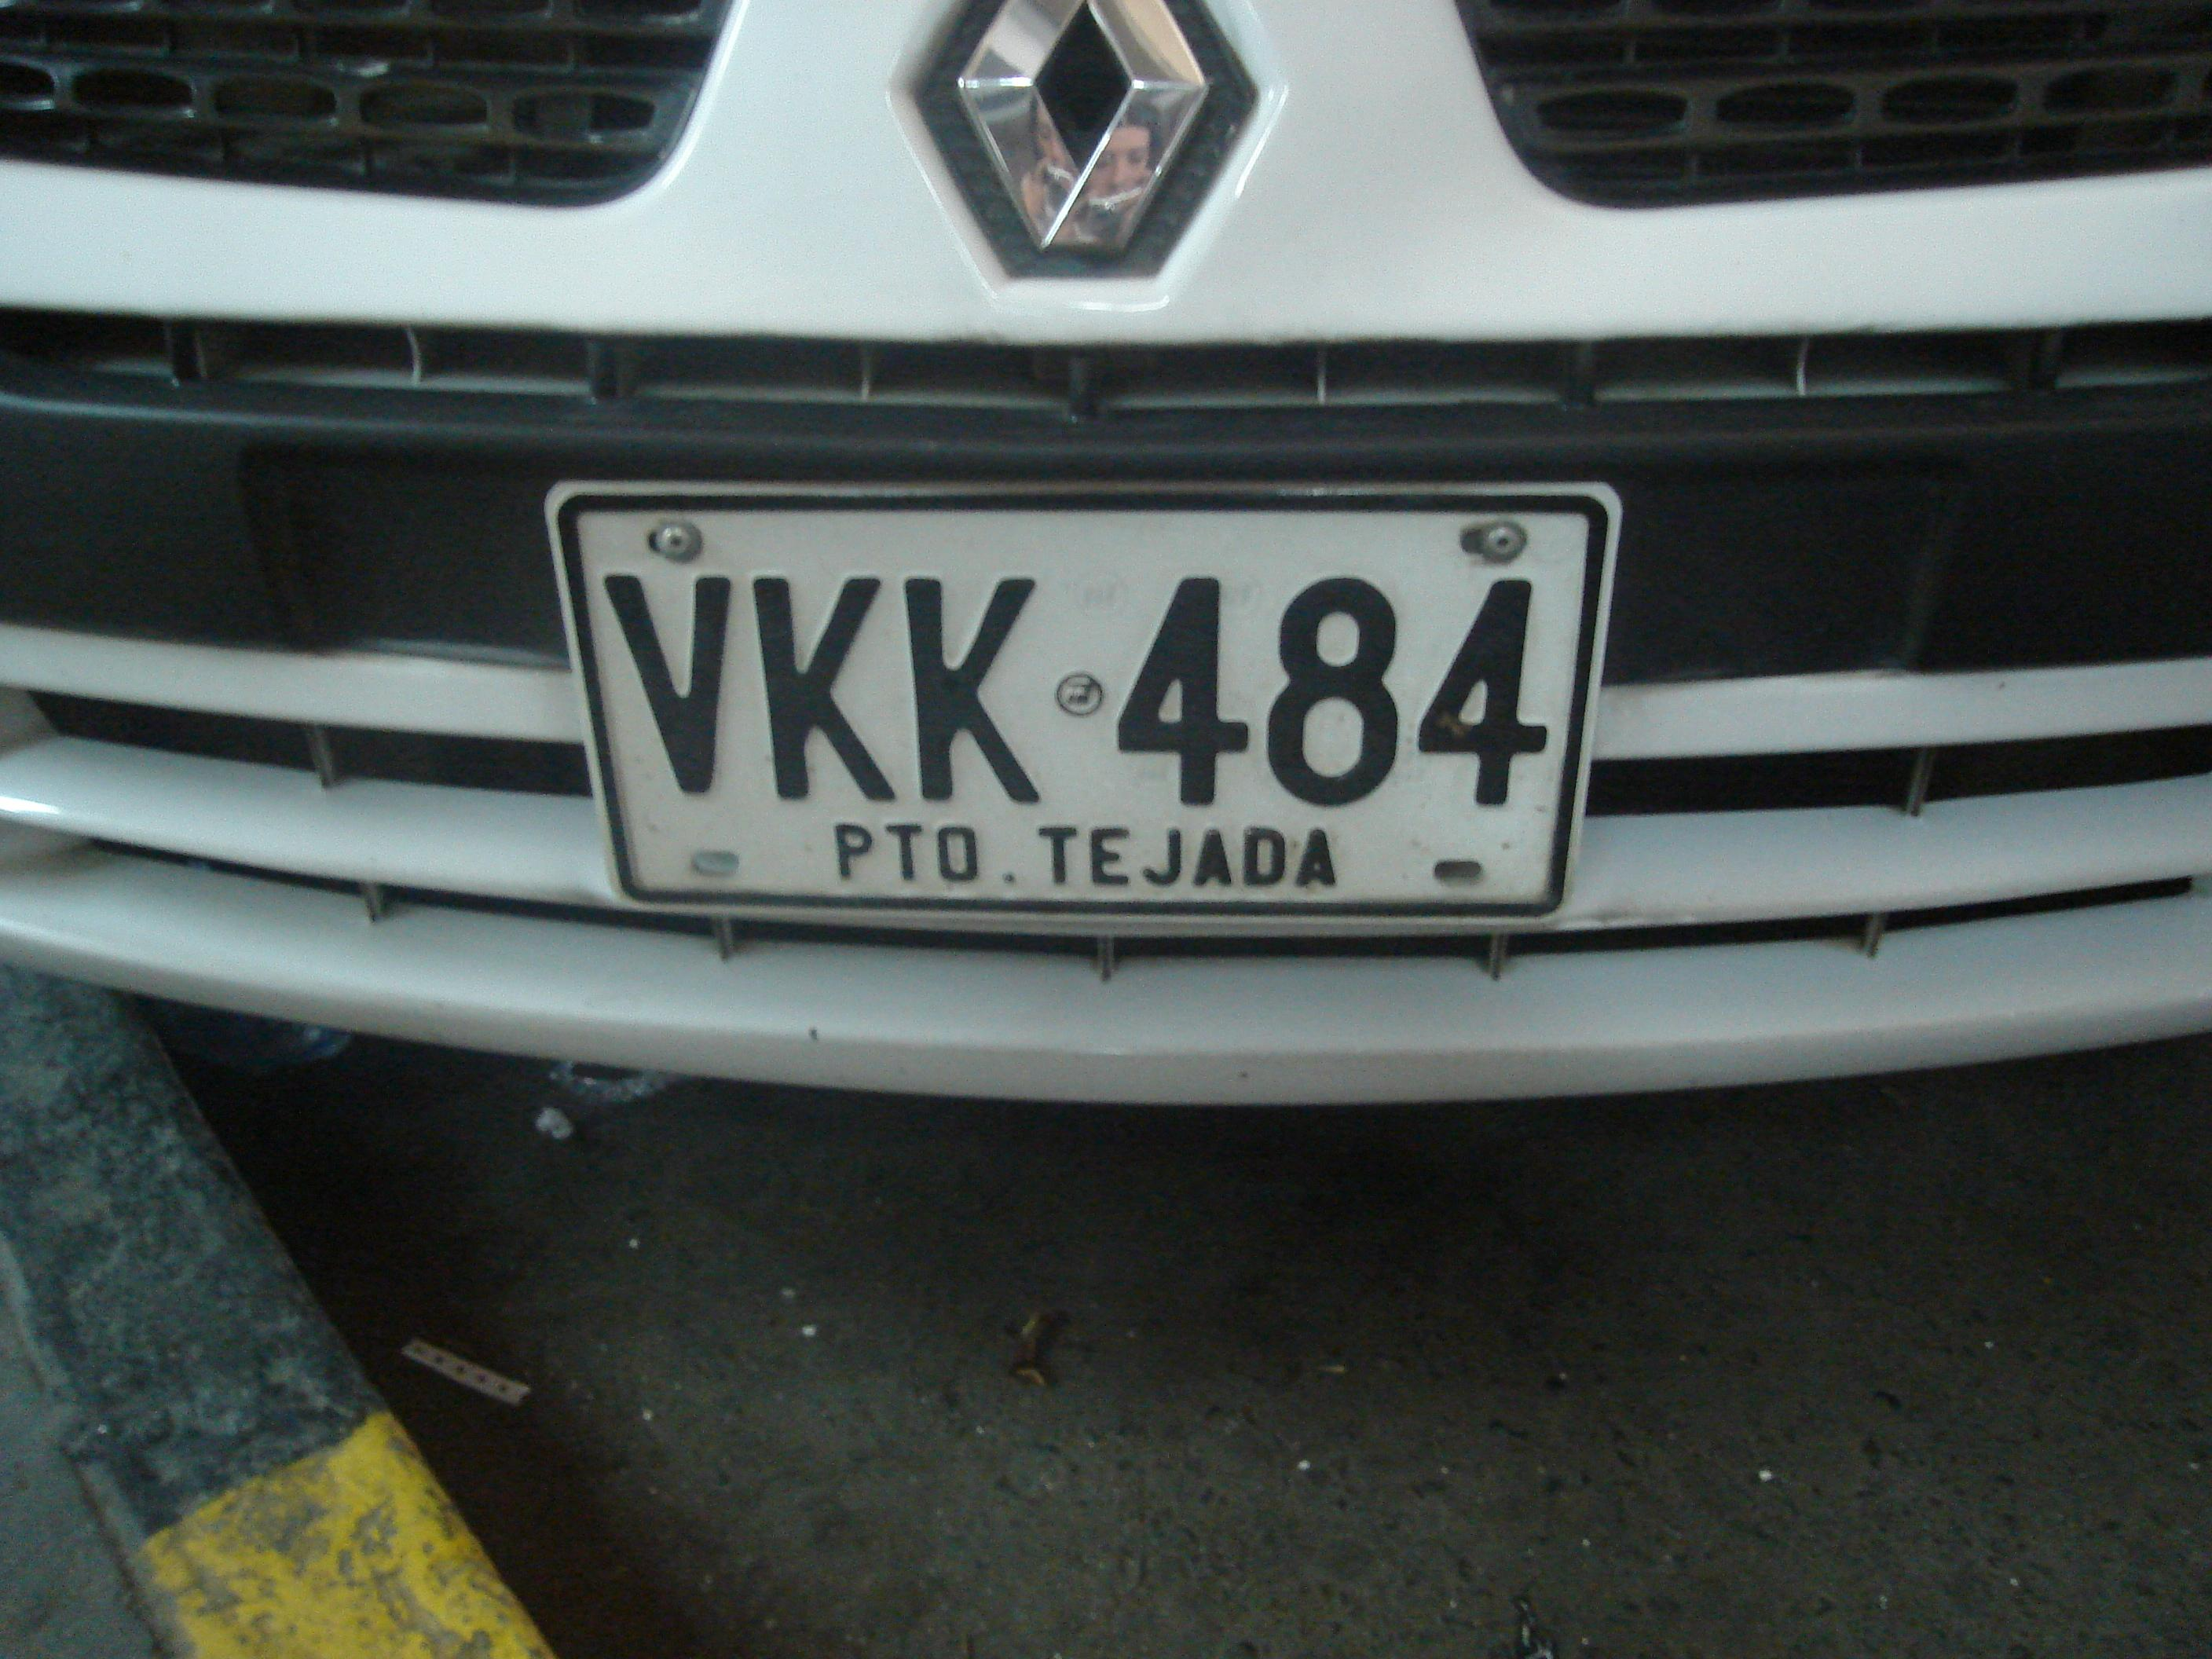placas: (523, 457, 1643, 932)
